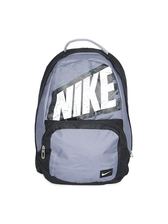bag: (31, 35, 134, 190)
